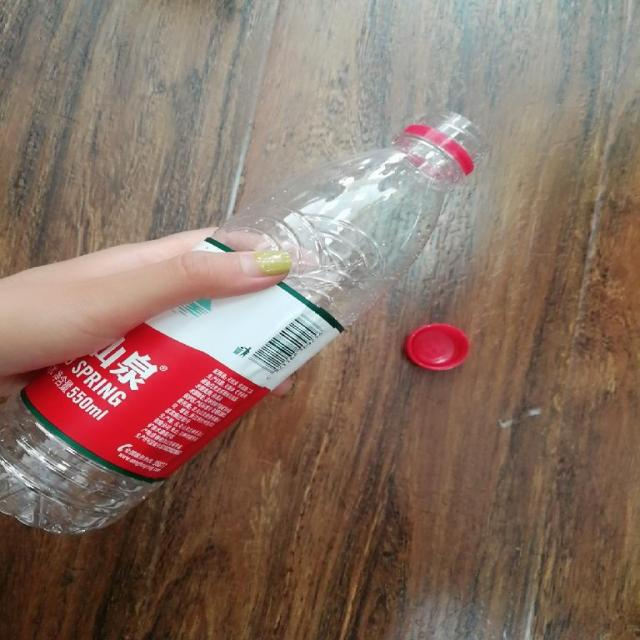-Recyclables - plastic bottle-: (0, 108, 489, 538)
